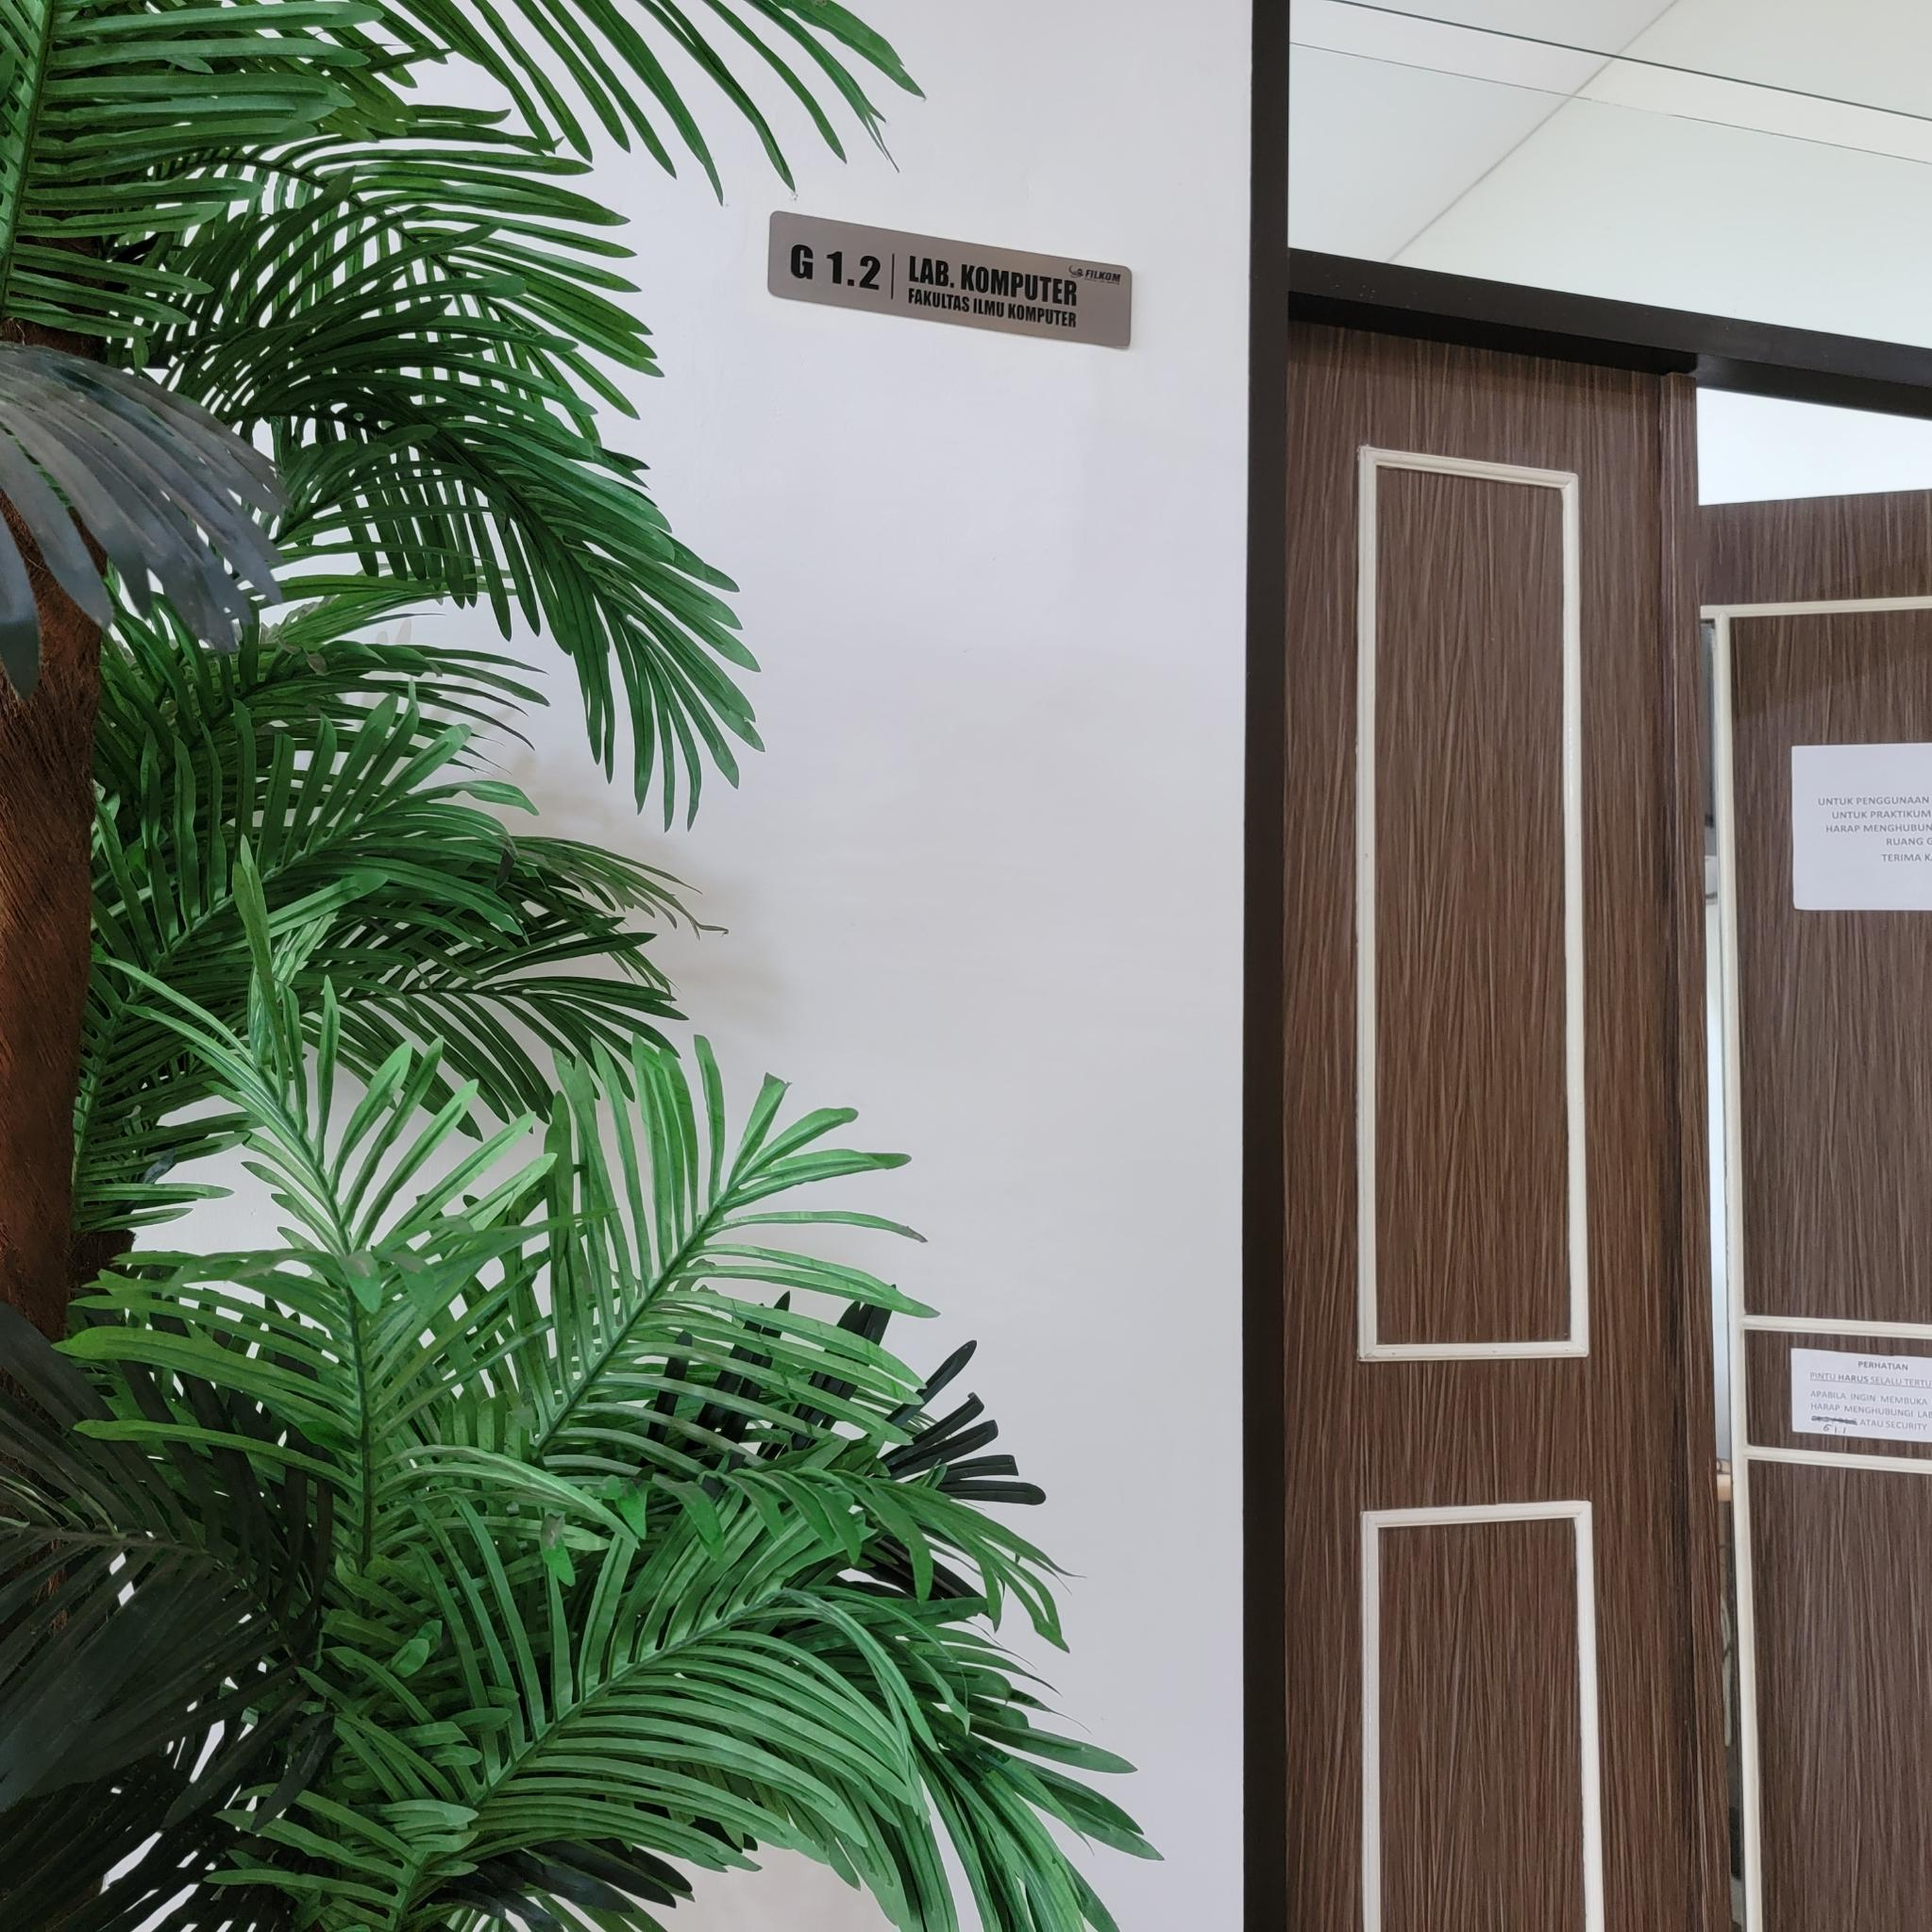plate: (768, 211, 1134, 349)
